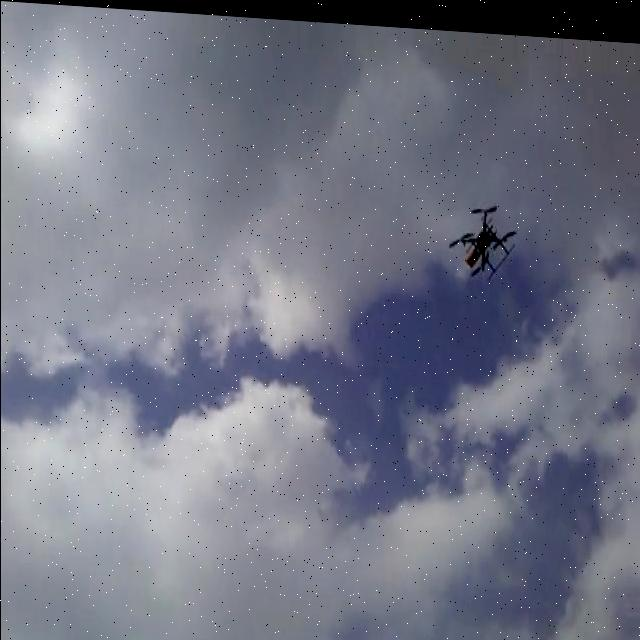drone: (442, 189, 518, 278)
